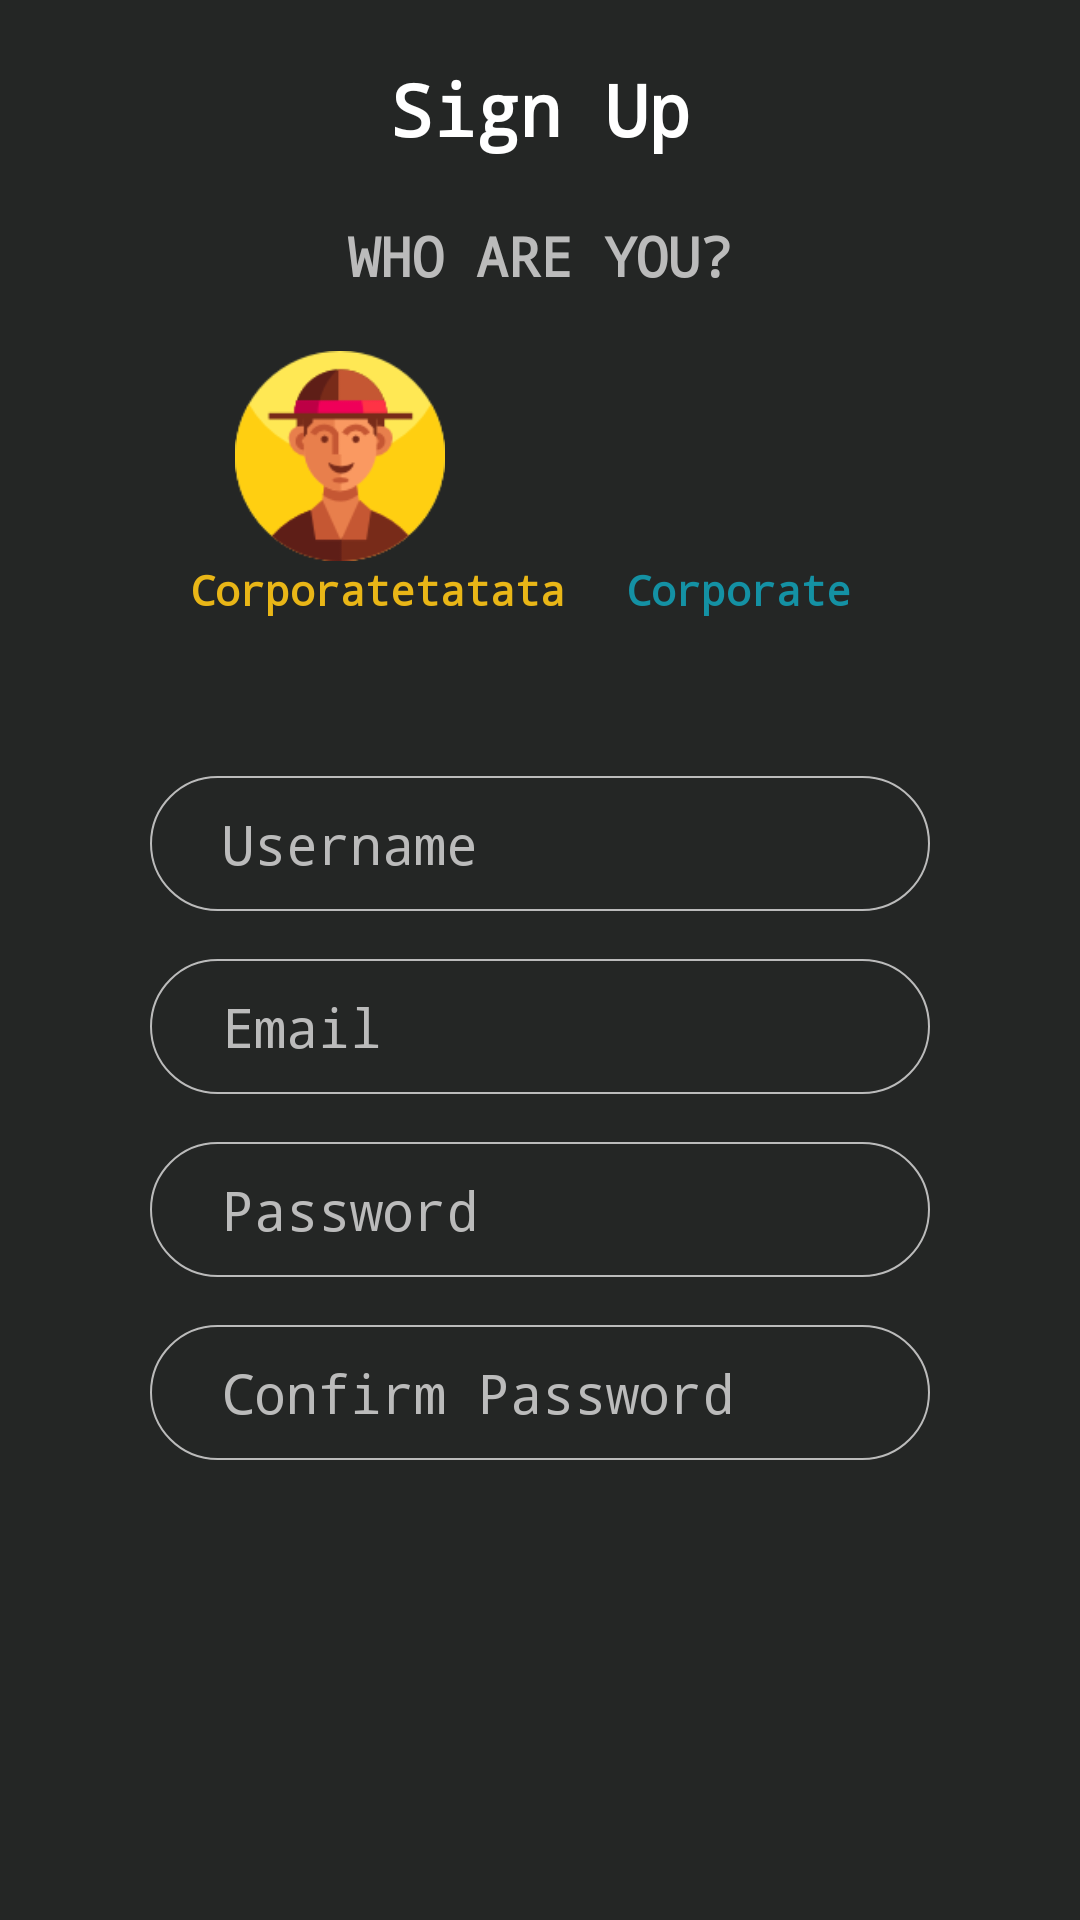

Where icons sit on this 1080px x 1920px app screen, as (x1, y1, x2, y2):
explorer: (235, 351, 445, 561)
